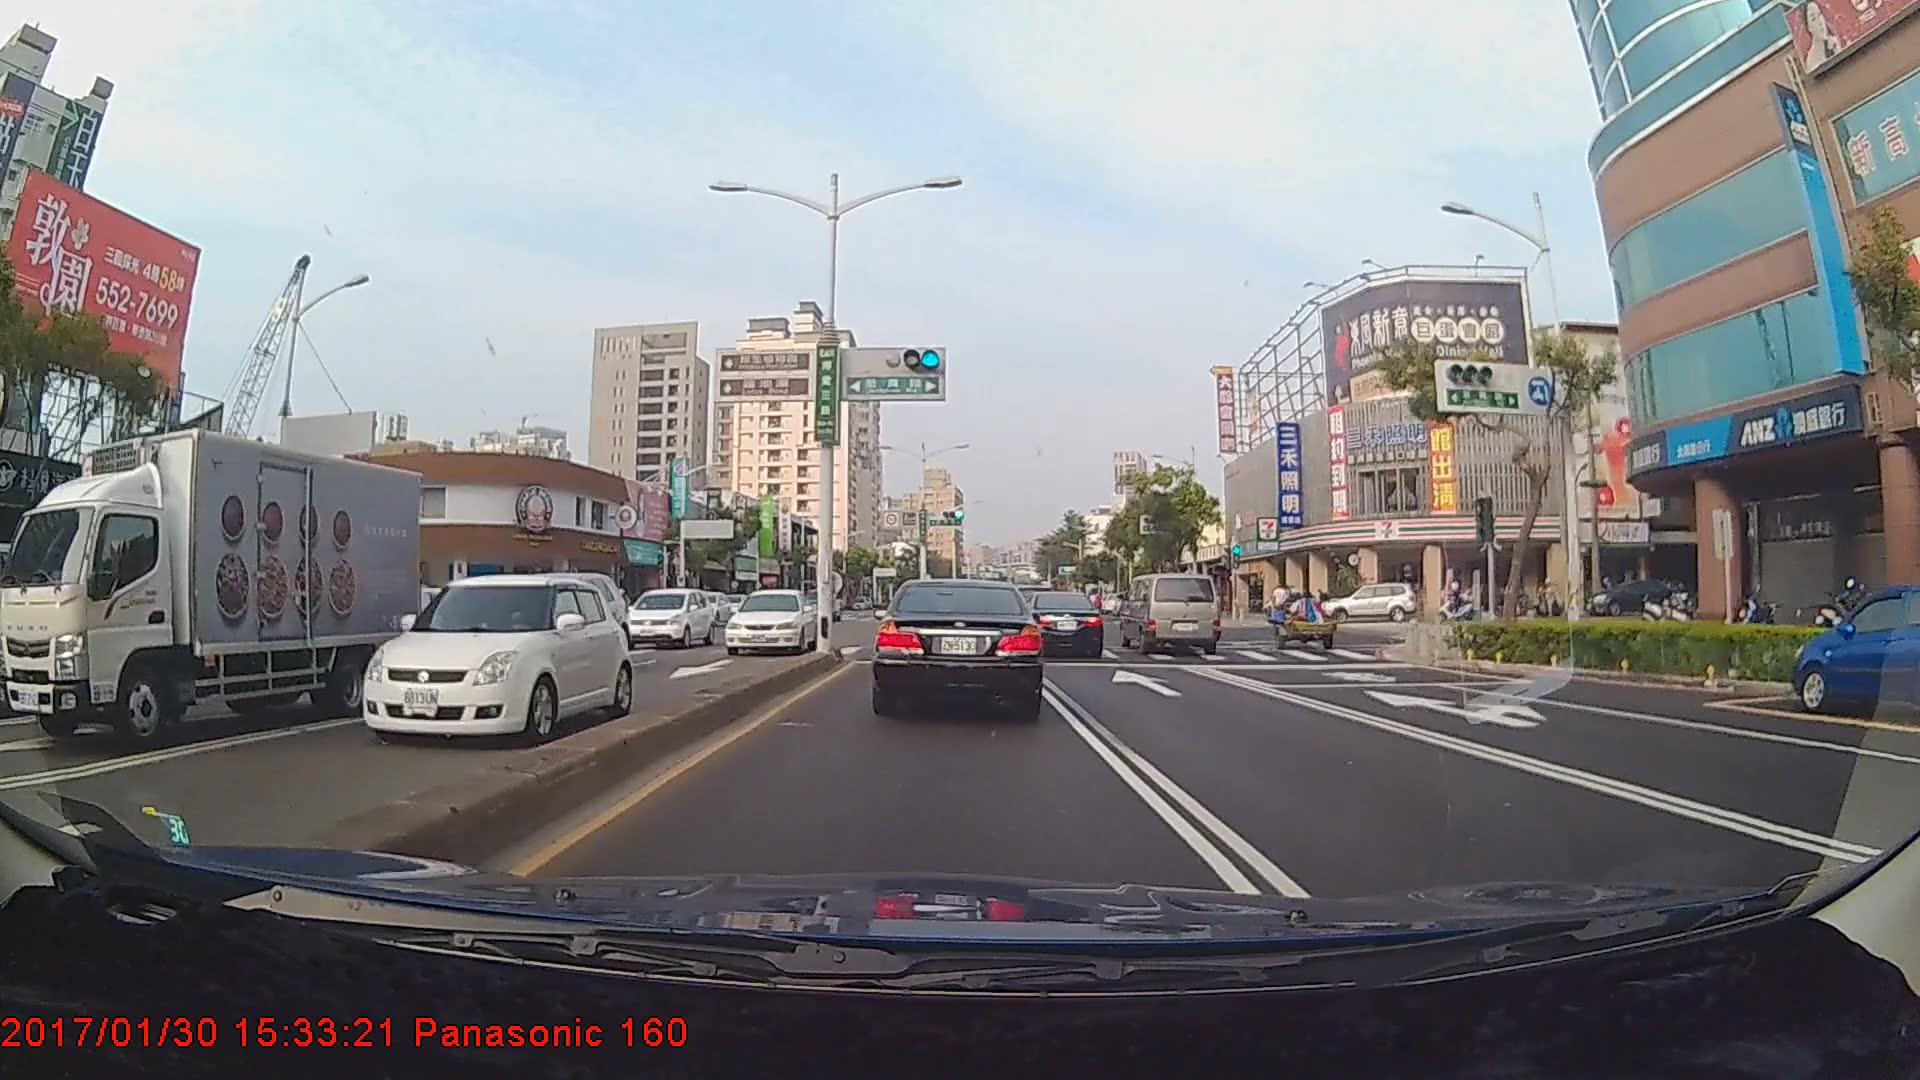vehicle: (25, 419, 415, 746), (361, 568, 637, 746), (874, 574, 1044, 717), (467, 566, 626, 671), (1795, 583, 1917, 717), (1121, 571, 1222, 657), (713, 583, 814, 655), (617, 583, 713, 650), (1018, 591, 1104, 658), (1323, 580, 1422, 624)
